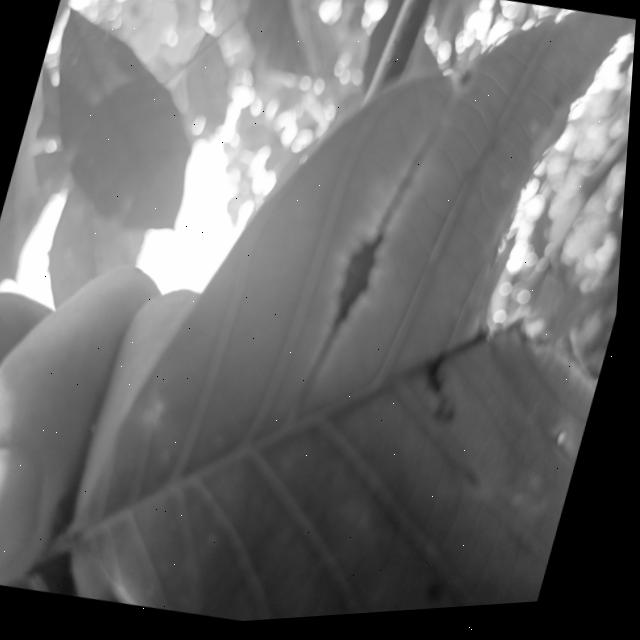Corynespora: (307, 127, 439, 408)
